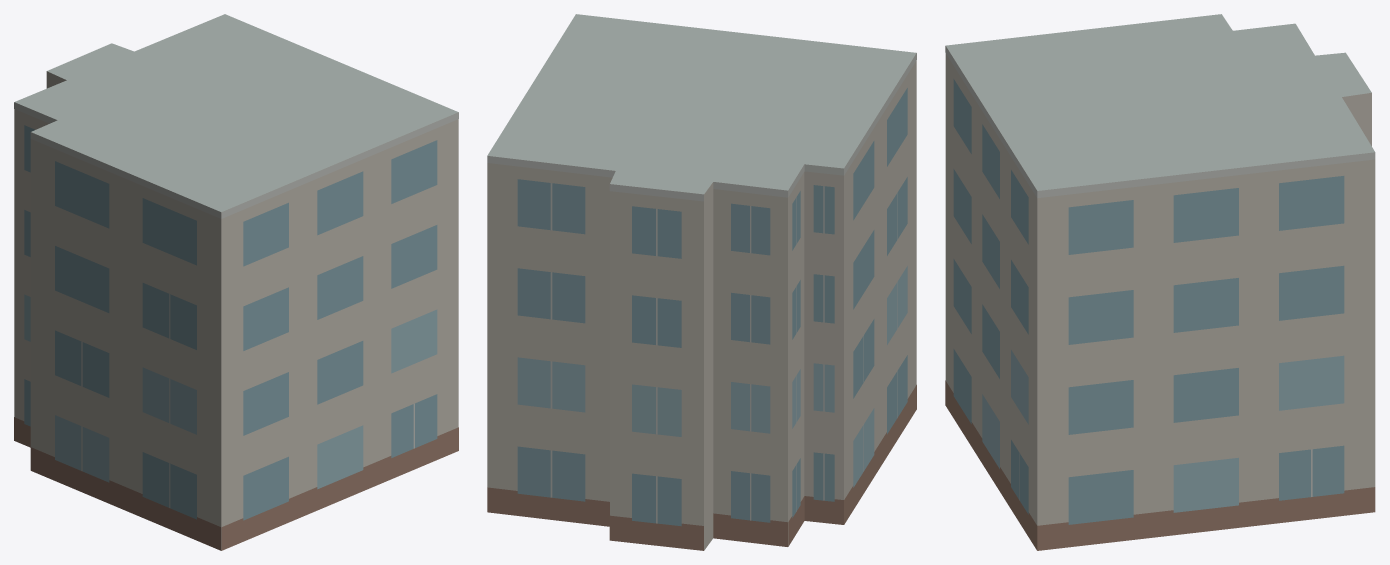
Rendered from survey-upis-32976221.glb.
The picture shows the model from 3 angles, left to right: view 1: azimuth 30°, elevation 25°; view 2: azimuth 150°, elevation 25°; view 3: azimuth 270°, elevation 25°; orthographic projection. The views are drawn at different scales.
Parts seen in each view (by area): view 1: survey-upis-32976221.tmp; view 2: survey-upis-32976221.tmp; view 3: survey-upis-32976221.tmp.
Part boxes in pixels (left/top/right/bottom): survey-upis-32976221.tmp: left=14, top=14, right=458, bottom=550; survey-upis-32976221.tmp: left=487, top=14, right=916, bottom=550; survey-upis-32976221.tmp: left=945, top=14, right=1375, bottom=550.
Bounding box in the file's own units: 12.88 × 12.2 × 13.22.
